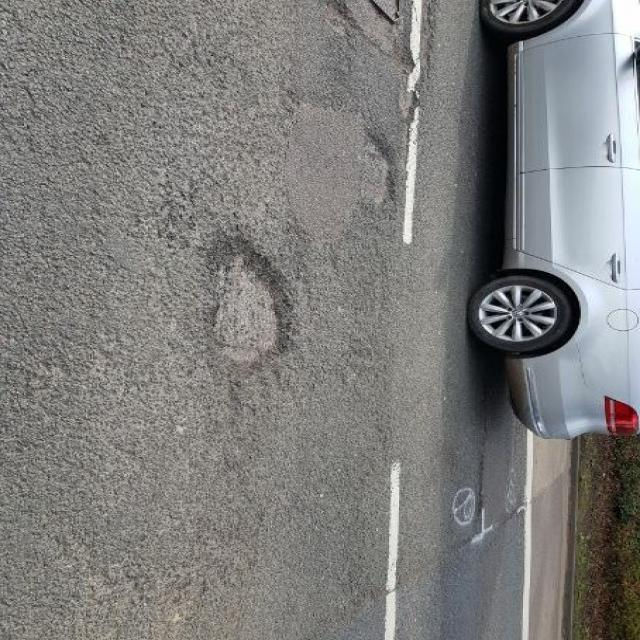Pothole: (183, 228, 303, 374), (335, 123, 406, 212), (314, 0, 365, 32)
